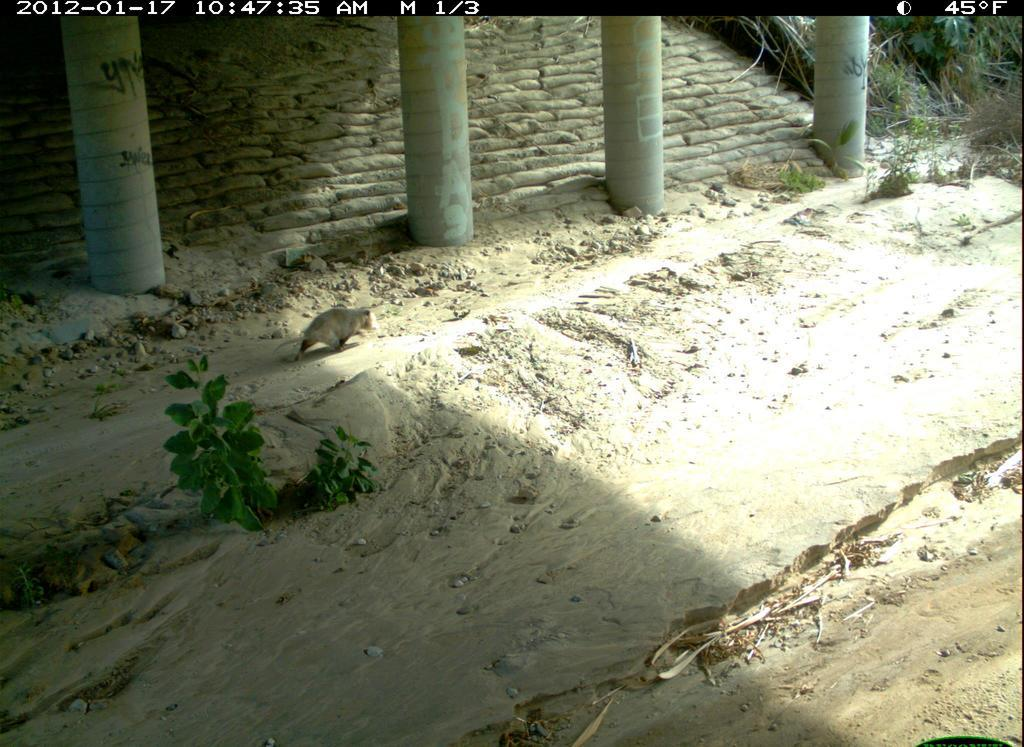opossum: (528, 603, 770, 735)
